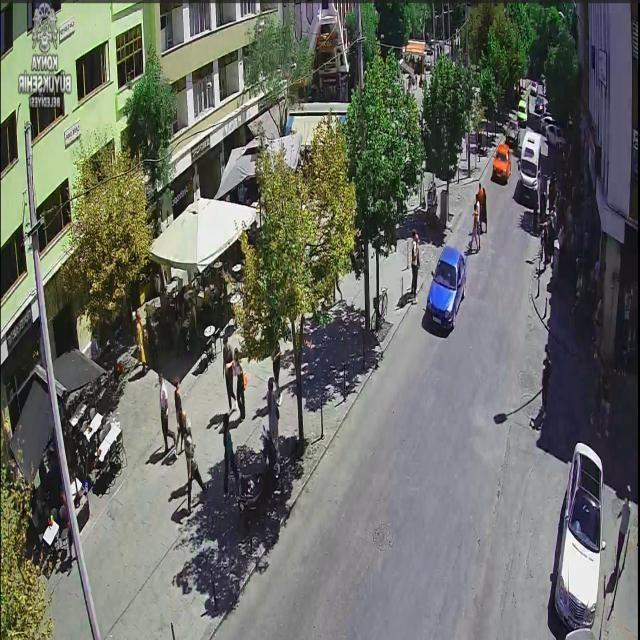Car: (547, 436, 607, 640), (424, 244, 464, 342), (490, 144, 512, 186), (546, 126, 568, 151), (534, 96, 546, 115), (543, 116, 559, 130)
Truck: (519, 130, 543, 193)
Van: (516, 99, 528, 128), (529, 81, 540, 95)
